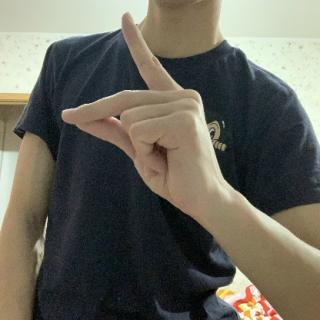TAA: (57, 8, 238, 214)
